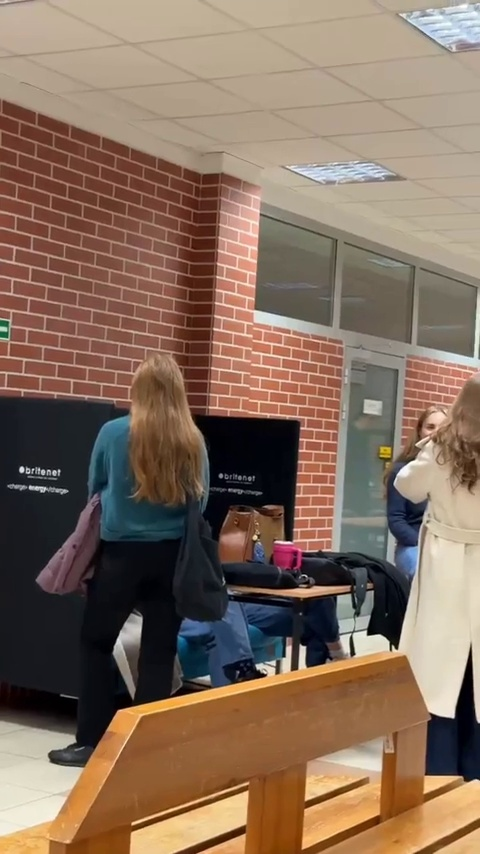no vest: (98, 351, 212, 712), (399, 369, 480, 707)
